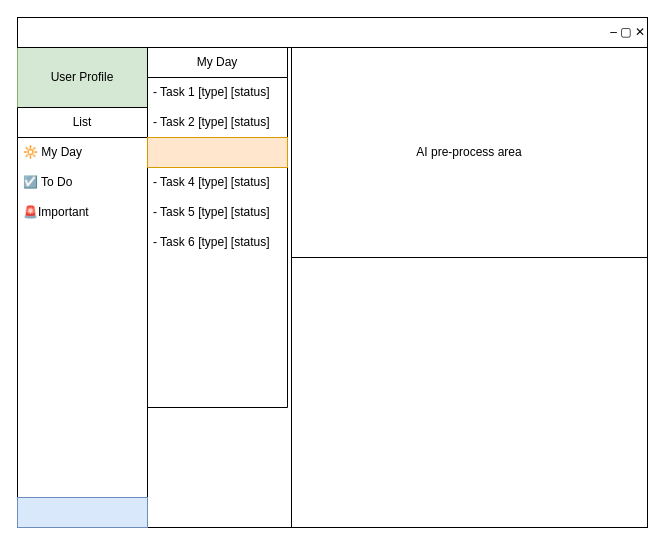
Image size: 665x545. Some labels were removed from this diagram. The shapes that lost their labels are listed below. From the top down, each one's centre as x and y in pixels, then its label:
point 217,152: - Task 3 [type] [status]
point 469,392: Working area
point 82,512: + New List
